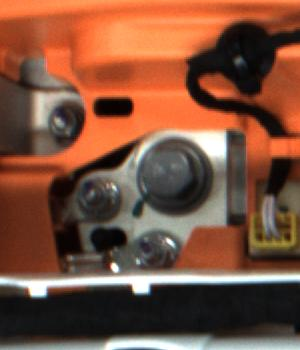nut_b: (132, 139, 204, 211)
screw_s: (41, 99, 82, 145), (133, 228, 177, 267), (81, 176, 114, 212)
